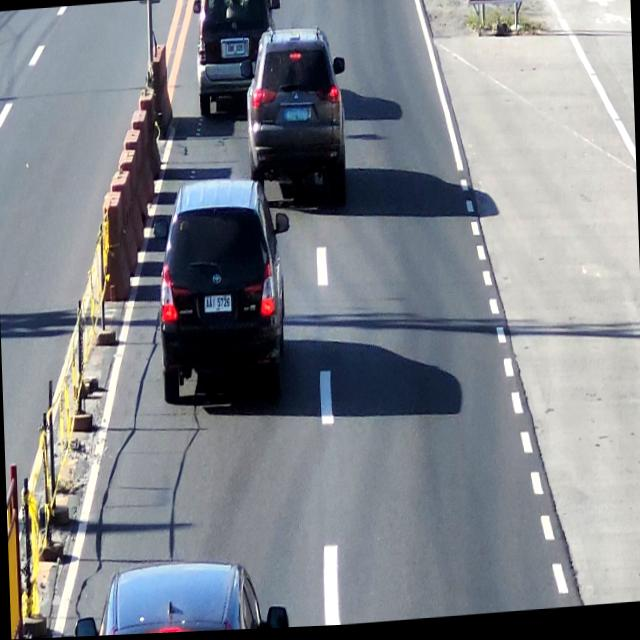Car: (158, 175, 287, 400), (247, 26, 350, 204), (81, 555, 272, 637), (192, 0, 282, 115)
License-Plate: (200, 289, 235, 324), (284, 105, 310, 132), (222, 39, 246, 59)
